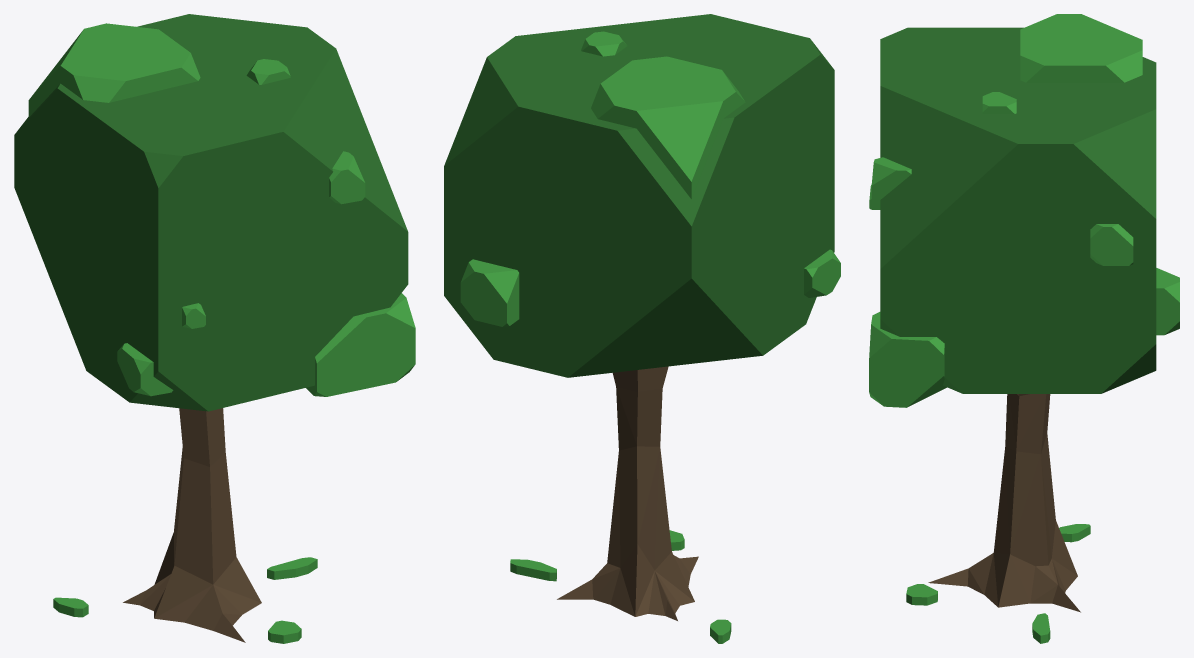
Rendered from Tree_E_02.FBX.
3 renders of one model, left to right at view 1: azimuth 30°, elevation 25°; view 2: azimuth 150°, elevation 25°; view 3: azimuth 270°, elevation 25°, orthographic. The views are drawn at different scales.
Visible parts, largest first — view 1: Tree_E_02; view 2: Tree_E_02; view 3: Tree_E_02.
Part boxes in pixels (box(x1,y1,x2,y2)): Tree_E_02: box(14, 14, 415, 643); Tree_E_02: box(444, 14, 840, 643); Tree_E_02: box(869, 14, 1179, 643).
Size of the model in its own units: 1.65 by 3.15 by 1.71.
